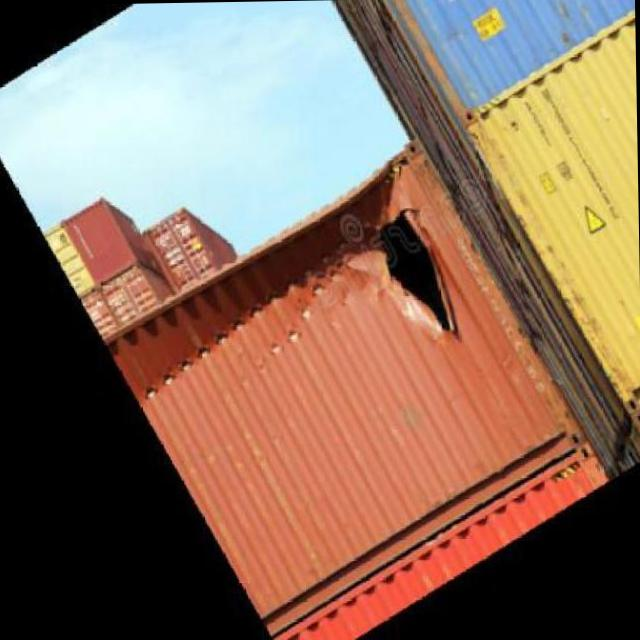Deframe_or_Dent: (121, 238, 361, 440), (270, 134, 429, 260)
Hole: (354, 179, 466, 352)
